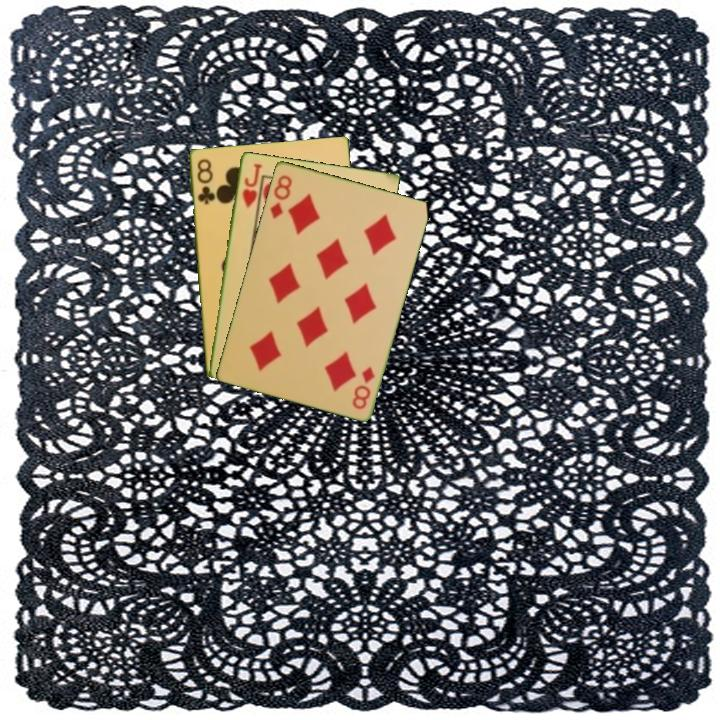8c: (193, 155, 217, 207)
8d: (348, 363, 378, 412), (266, 171, 295, 221)
Jh: (239, 160, 264, 211)
